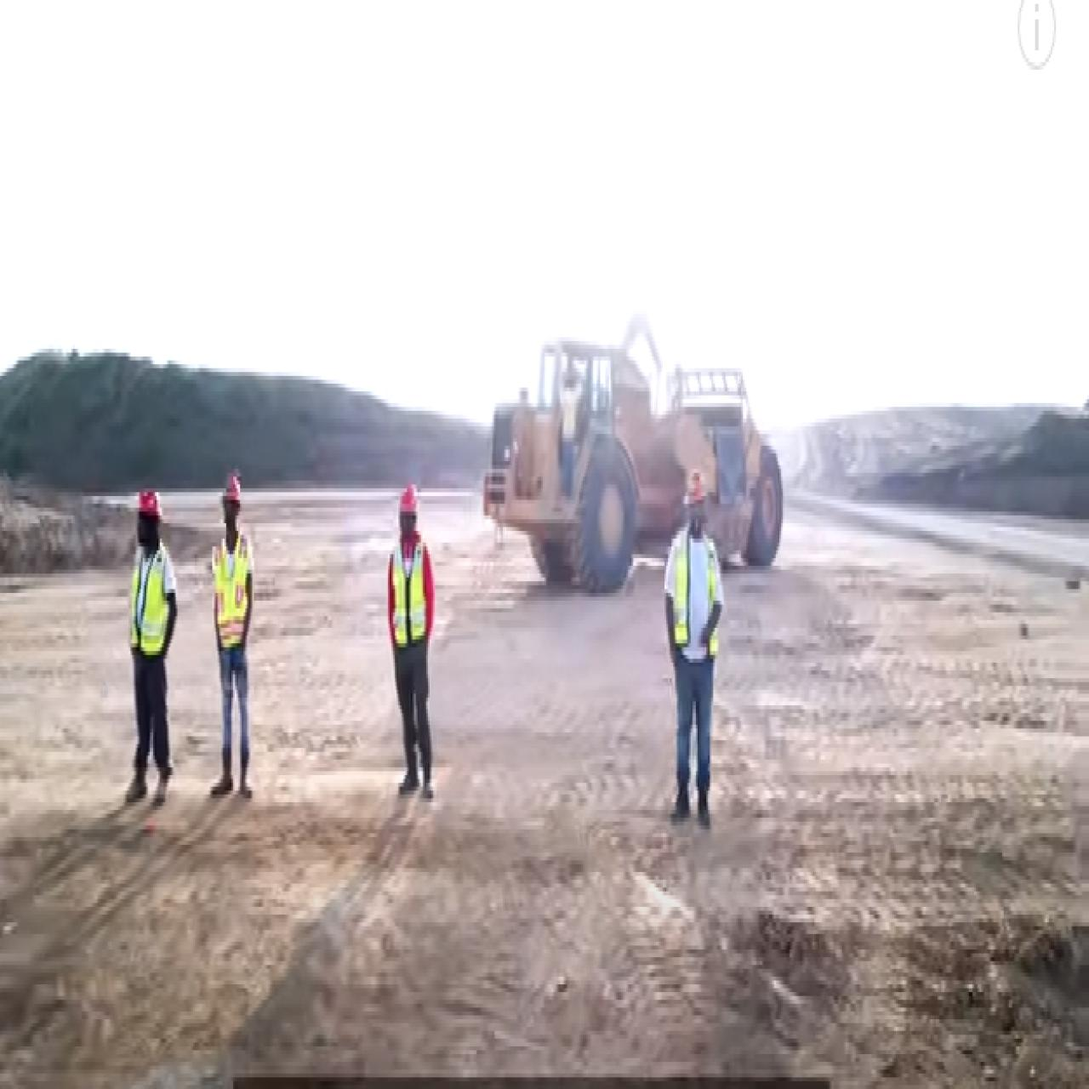Person: (661, 449, 728, 837), (200, 464, 264, 803), (119, 472, 180, 814), (381, 461, 438, 810)
Safety_Vest: (672, 530, 722, 672), (129, 549, 172, 662), (389, 536, 429, 639), (214, 539, 251, 646)
